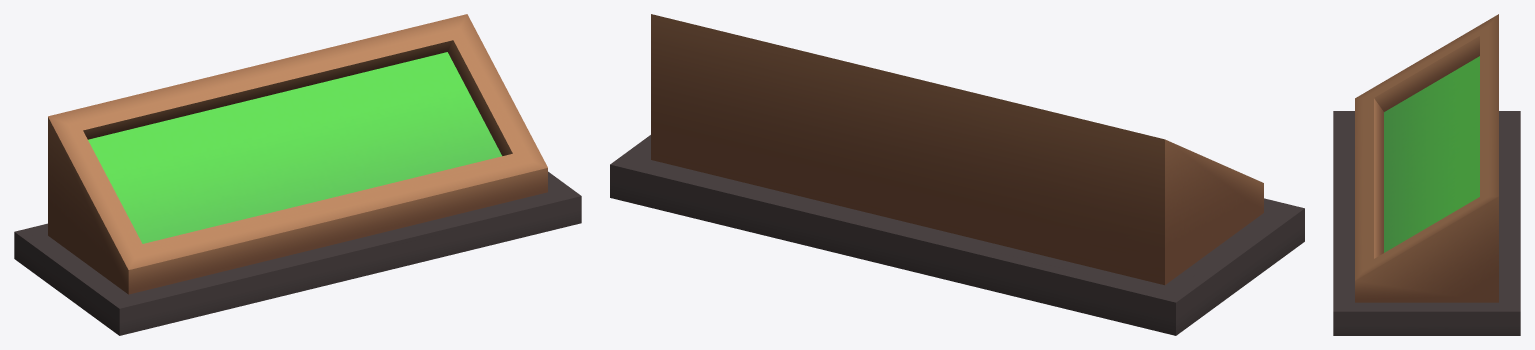
File: timeDisplay.fbx
3 renders of one model, left to right at view 1: azimuth 30°, elevation 25°; view 2: azimuth 150°, elevation 25°; view 3: azimuth 270°, elevation 25°, orthographic. The views are drawn at different scales.
Parts seen in each view (by area): view 1: timeDisplay; view 2: timeDisplay; view 3: timeDisplay.
Part boxes in pixels (bbox=[...]): timeDisplay: bbox=[14, 14, 581, 335]; timeDisplay: bbox=[610, 14, 1304, 335]; timeDisplay: bbox=[1333, 14, 1520, 335].
Bounding box in the file's own units: 661 × 200 × 261.
